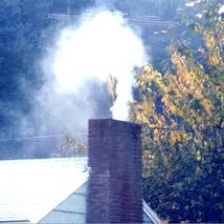smoke: (57, 19, 147, 117)
